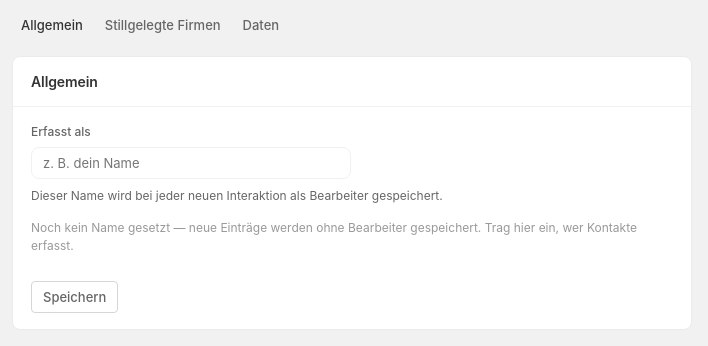
Einstellungen › renders the passed stillgelegte companies as a view-only list (no manual-status control)
What coordinates should you click on to do the following:
click the button "Stillgelegte Firmen"
I would click on:
 (163, 25)
Its box is [96,12,230,38].
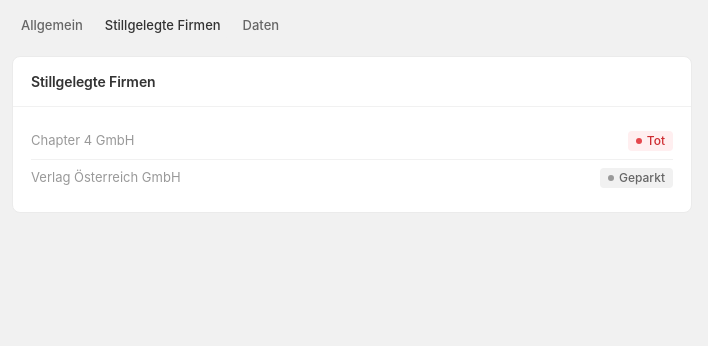
Expected: the text "Chapter 4 GmbH" is shown, [31,131,134,151]
Expected: the text "Verlag Österreich GmbH" is shown, [31,168,181,188]
Expected: the button "Speichern" is gone
